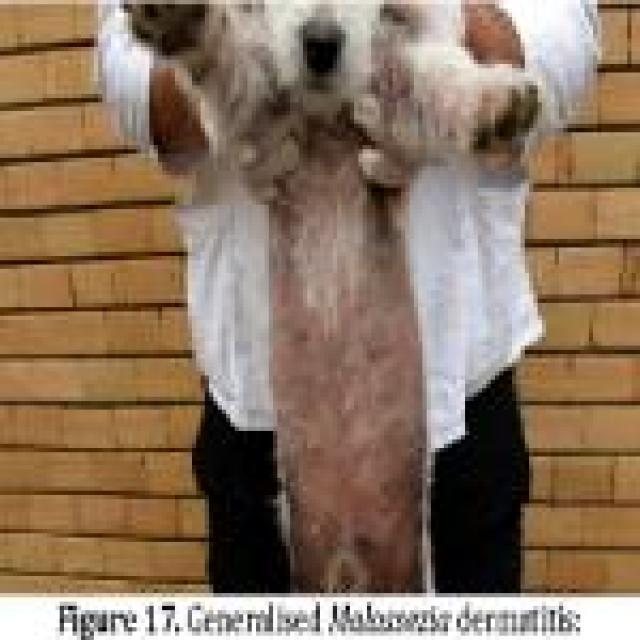fungal infection: (375, 454, 419, 512), (361, 195, 403, 243), (296, 427, 336, 467), (362, 342, 404, 378), (270, 206, 305, 243), (292, 324, 320, 366), (304, 510, 330, 549)
